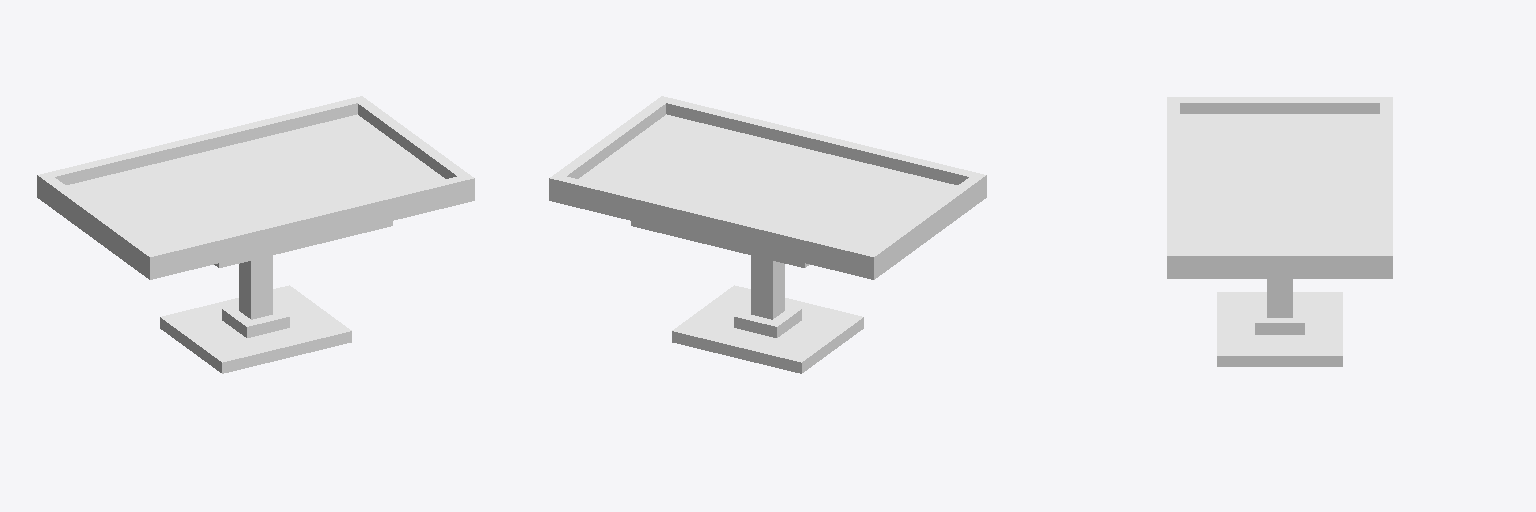
The model's file is Tabletwo.obj.
The picture shows the model from 3 angles: view 1: azimuth 30°, elevation 25°; view 2: azimuth 150°, elevation 25°; view 3: azimuth 270°, elevation 25°; orthographic projection.
Visible parts, largest first — view 1: object 1; view 2: object 1; view 3: object 1.
Part boxes in pixels (bbox=[...]): object 1: bbox=[37, 96, 474, 373]; object 1: bbox=[549, 96, 986, 373]; object 1: bbox=[1167, 97, 1392, 366].
Bounding box in the file's own units: 3 × 1.4 × 1.8.